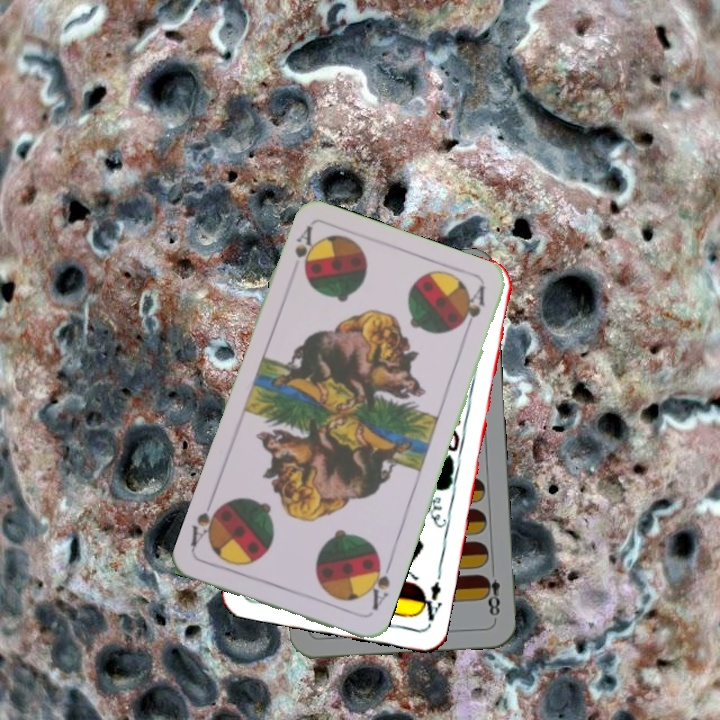E8: (479, 571, 503, 622)
EA: (414, 568, 445, 627)
SA: (362, 556, 394, 613), (290, 222, 319, 278)
